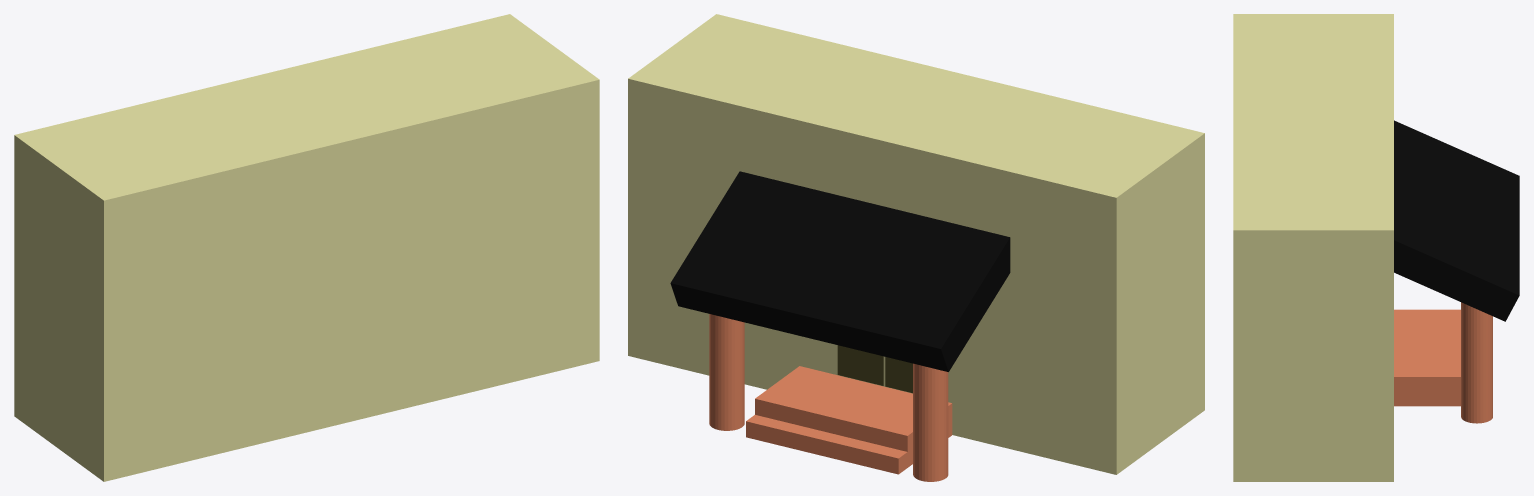
File: shelter.fbx
The picture shows the model from 3 angles, left to right: view 1: azimuth 30°, elevation 25°; view 2: azimuth 150°, elevation 25°; view 3: azimuth 270°, elevation 25°; orthographic projection. The views are drawn at different scales.
Parts seen in each view (by area): view 1: 立方体; view 2: 立方体, 立方体.001, Cube, 円柱.001, 円柱, 平面.001, 平面; view 3: 立方体, 立方体.001, Cube, 円柱.
Boxes of the visible parts, x1,y1,x2,y2 form: 立方体: [14, 14, 599, 481]; 立方体: [628, 14, 1204, 474]; 立方体.001: [670, 171, 1010, 371]; Cube: [746, 366, 952, 474]; 円柱.001: [913, 363, 948, 481]; 円柱: [709, 314, 744, 430]; 平面.001: [837, 345, 883, 385]; 平面: [885, 357, 912, 393]; 立方体: [1233, 14, 1393, 481]; 立方体.001: [1394, 120, 1519, 321]; Cube: [1394, 309, 1460, 406]; 円柱: [1461, 302, 1492, 423].
Size of the model in its own units: 3190 by 1731 by 1783.
